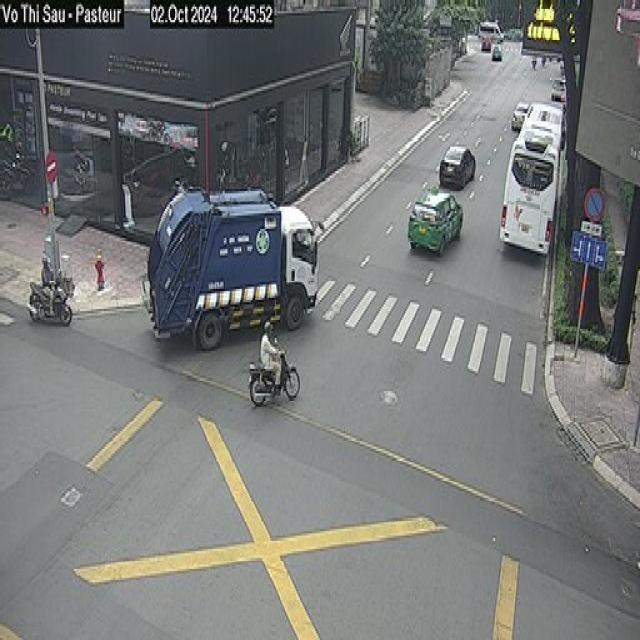bus: (499, 99, 561, 260)
car: (408, 190, 462, 252), (439, 138, 476, 194), (476, 19, 508, 43), (510, 95, 530, 132), (552, 73, 568, 105), (480, 32, 493, 56), (491, 44, 504, 62)
motorcycle: (243, 347, 302, 406), (26, 281, 75, 325)
person: (258, 318, 283, 396), (40, 252, 58, 321)
truck: (143, 197, 329, 351)
